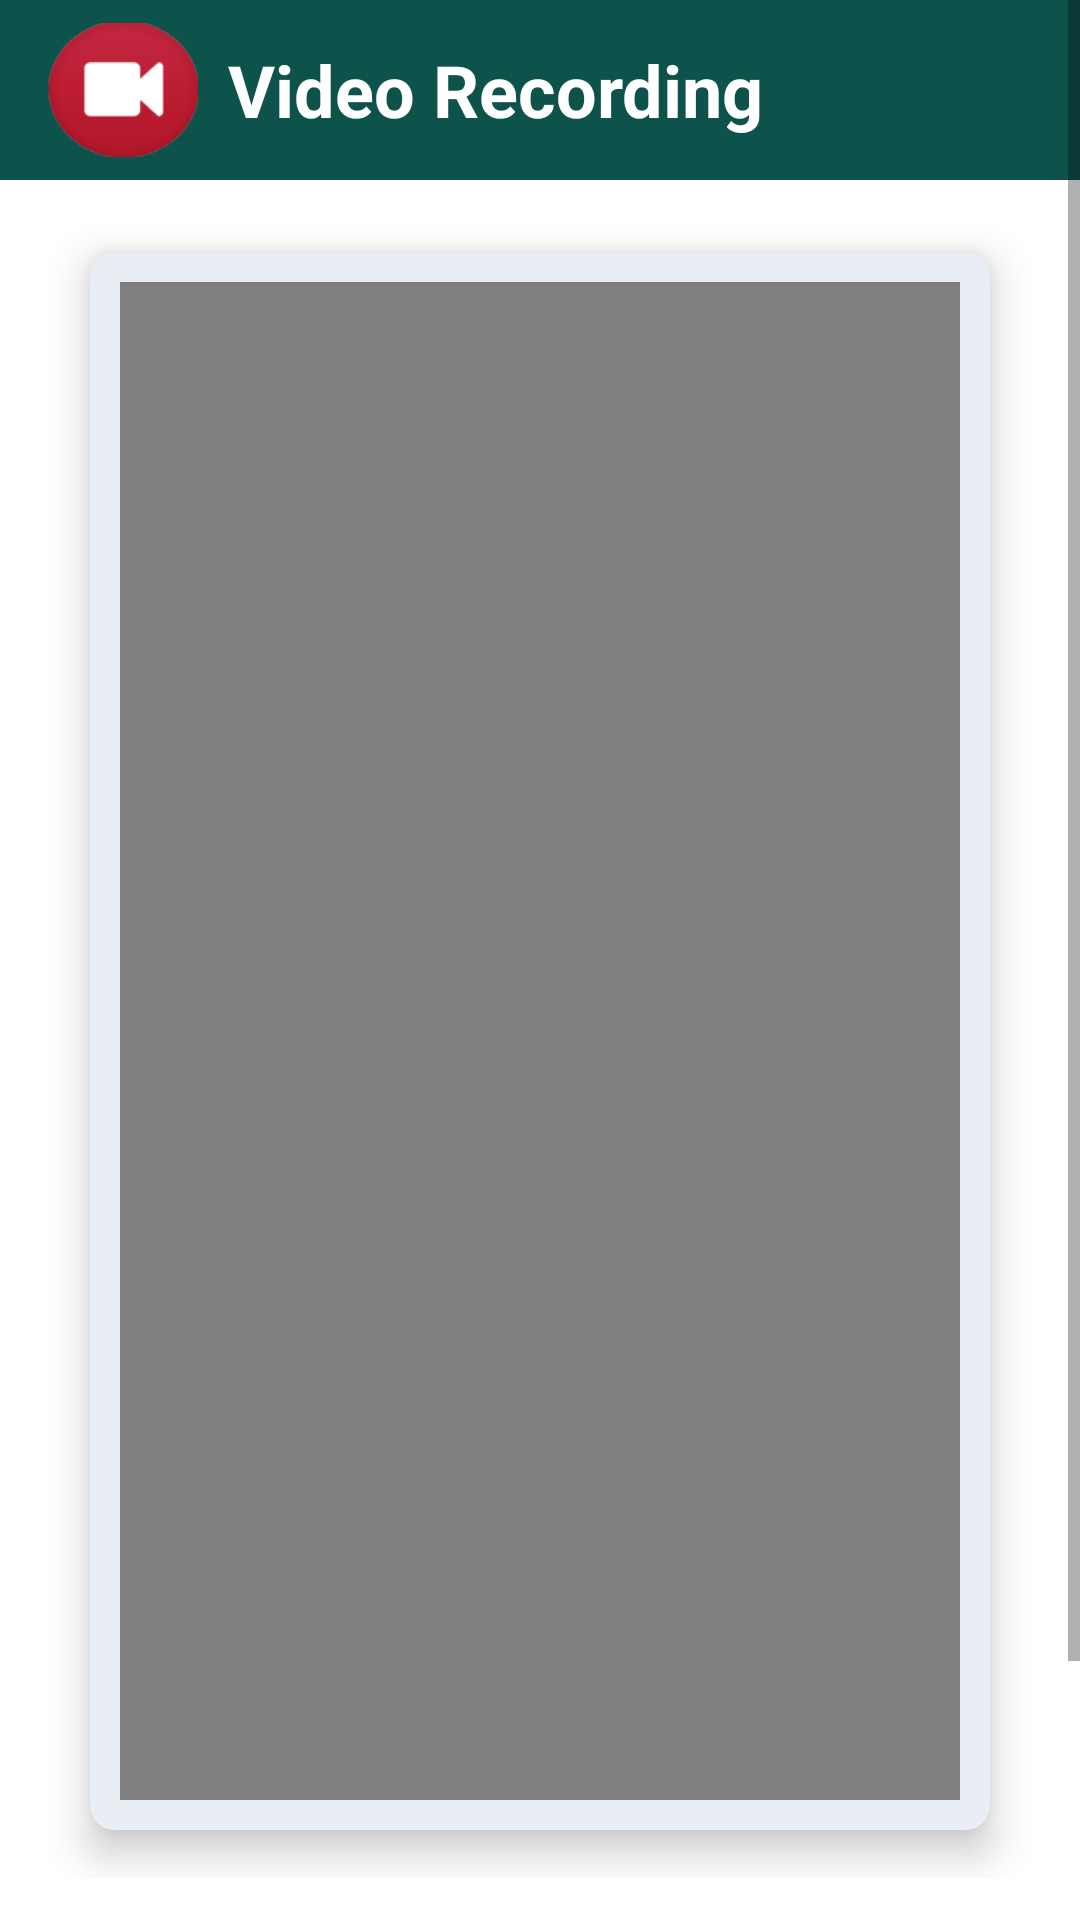

Named icons in this screenshot (1080px x 1920px) and their bounding boxes, bbox=(x1, y1, x2, y2):
videorecordicon: bbox=(48, 23, 198, 157)
